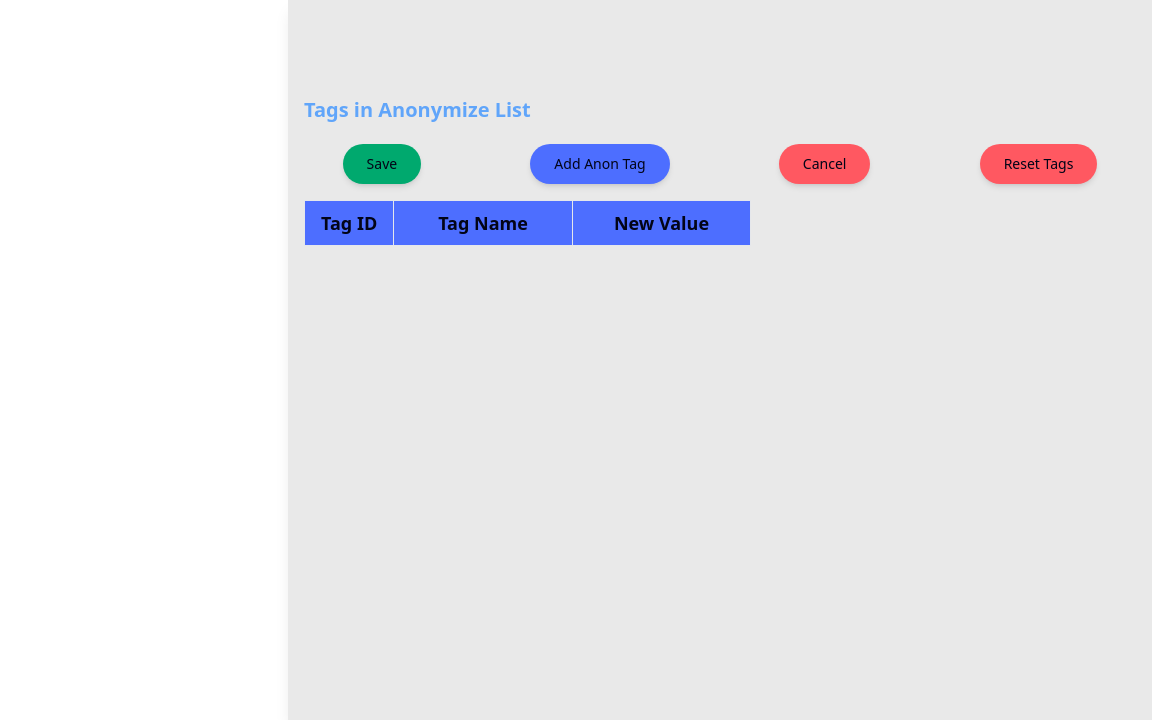
Test case: AutoAnonTagsEdit › shows the 'Add Tag' form when Add Tag button is clicked
The width and height of the screenshot is (1152, 720).
Click the button "Add Anon Tag": (600,164) [530,144,670,184]
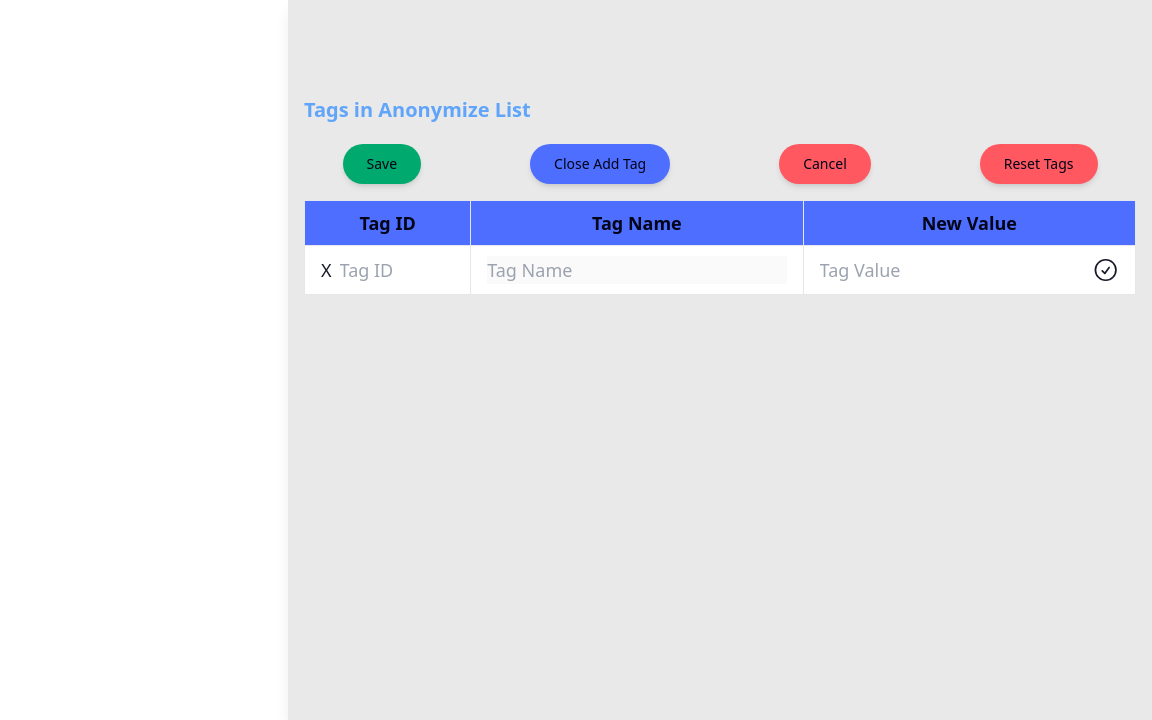
expect the field with placeholder "Tag ID" is shown: met, box [340,256,454,284]
expect the field with placeholder "Tag Name" is shown: met, box [487,256,787,284]
expect the field with placeholder "Tag Value" is shown: met, box [820,254,1076,286]
